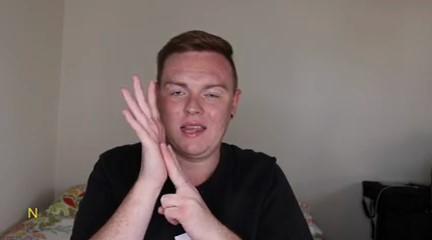N: (116, 68, 229, 240)
